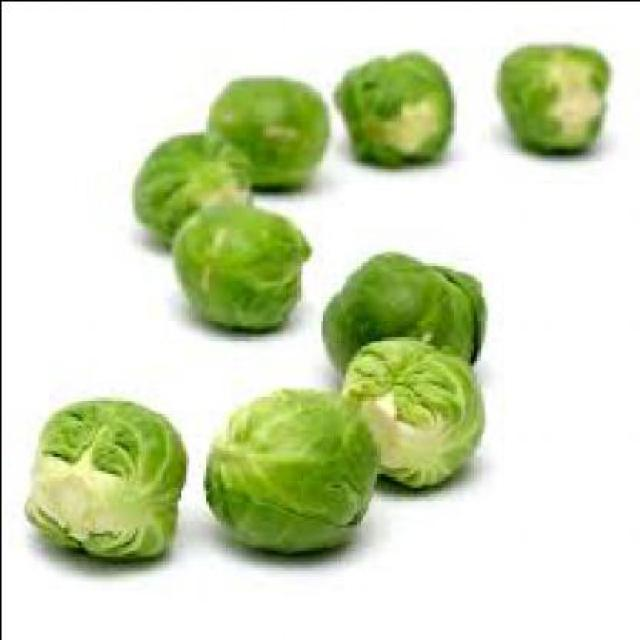BIODEGRADABLE: (204, 384, 384, 548), (26, 394, 191, 558), (342, 332, 492, 486), (322, 251, 489, 386), (173, 199, 313, 327), (336, 49, 456, 162), (498, 37, 612, 154), (210, 74, 330, 184), (136, 128, 253, 240)
